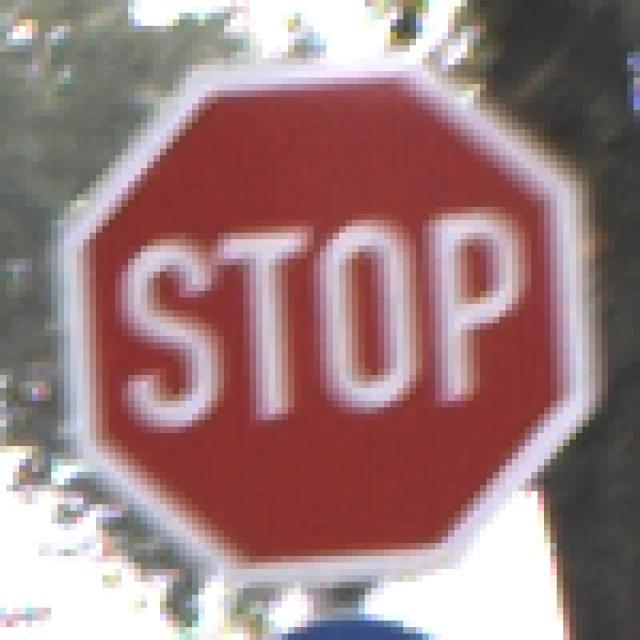STOP: (52, 53, 590, 589)
